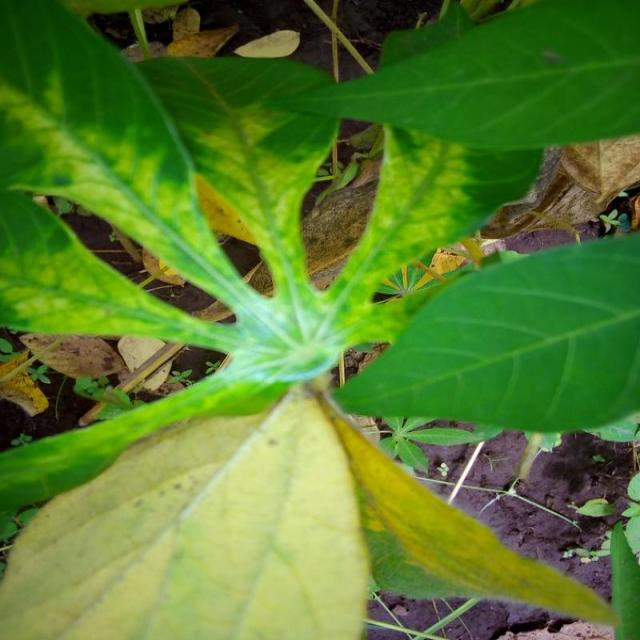cassava leaf: (0, 0, 638, 638), (330, 228, 640, 442)
